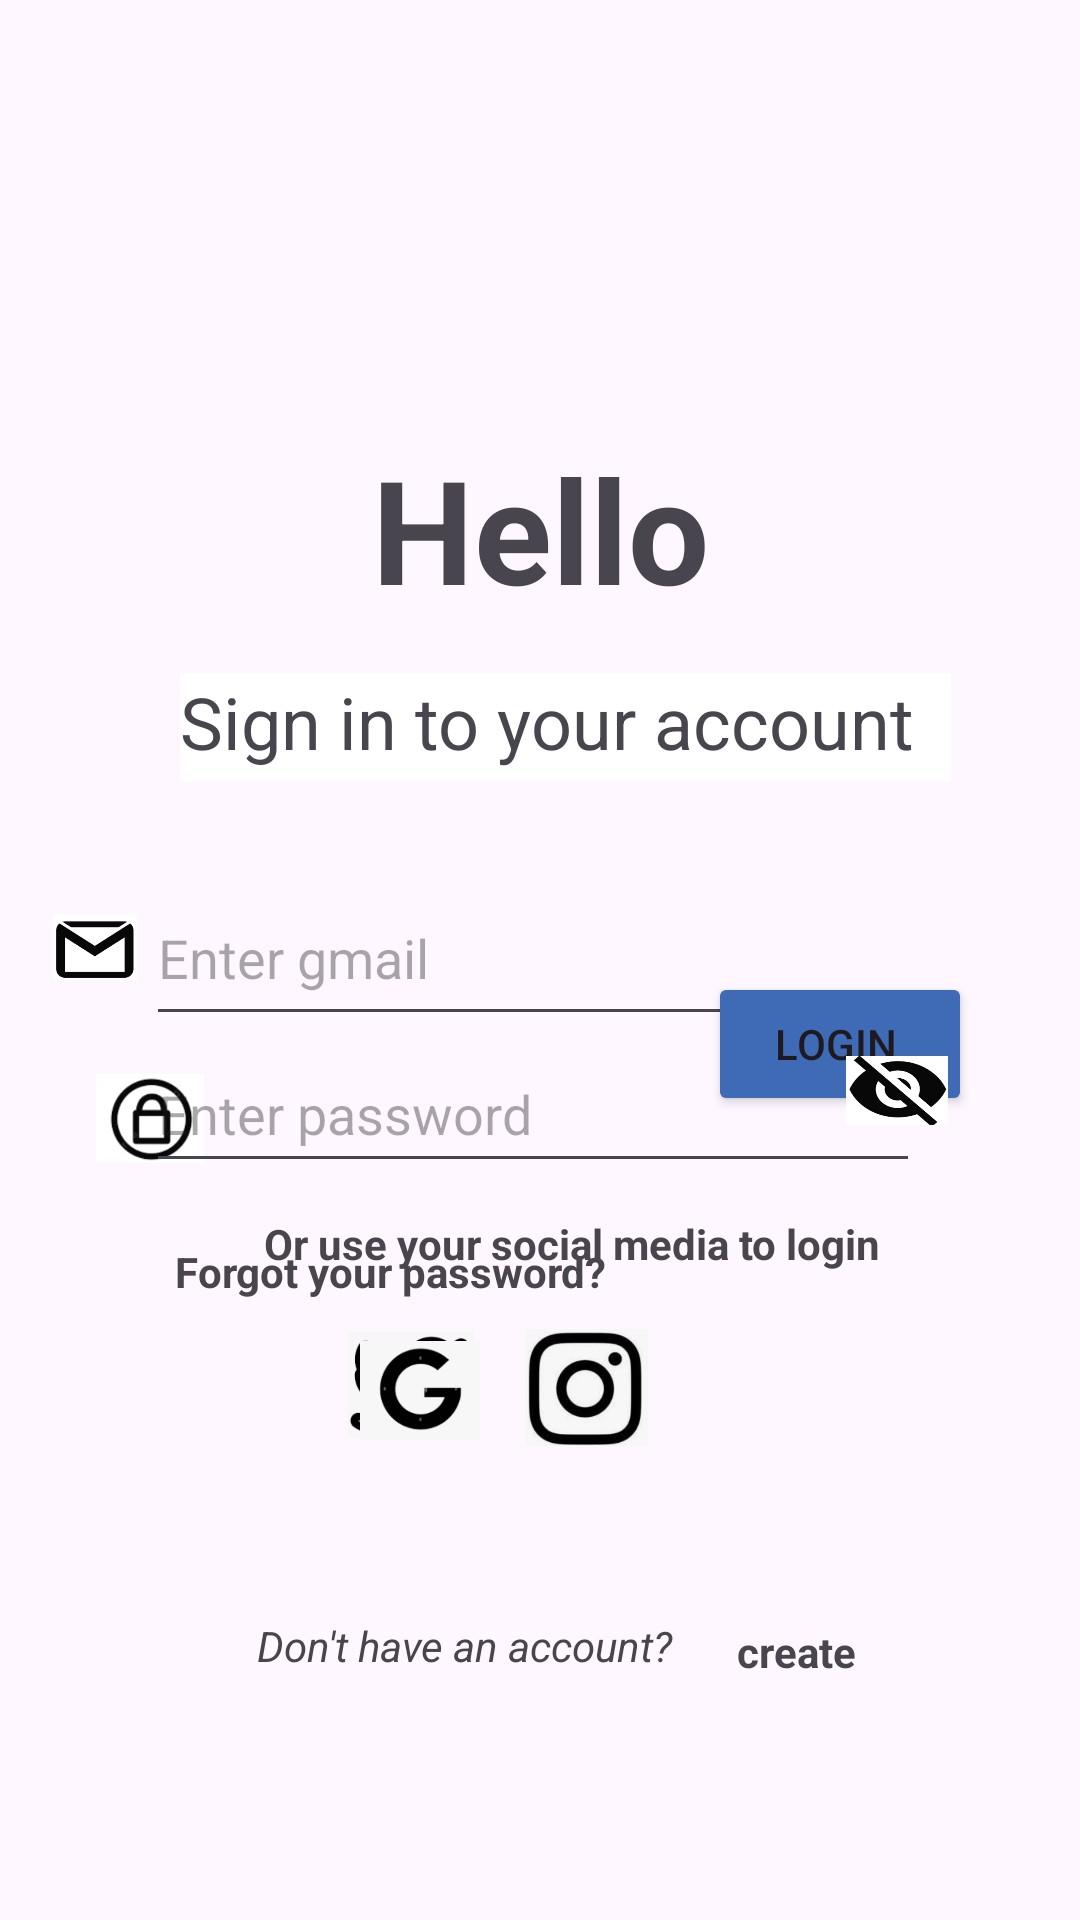

Point at icon controls on the screen. Image size 1080x1920, points as point (x, y).
eye visibility: point (897, 1090)
